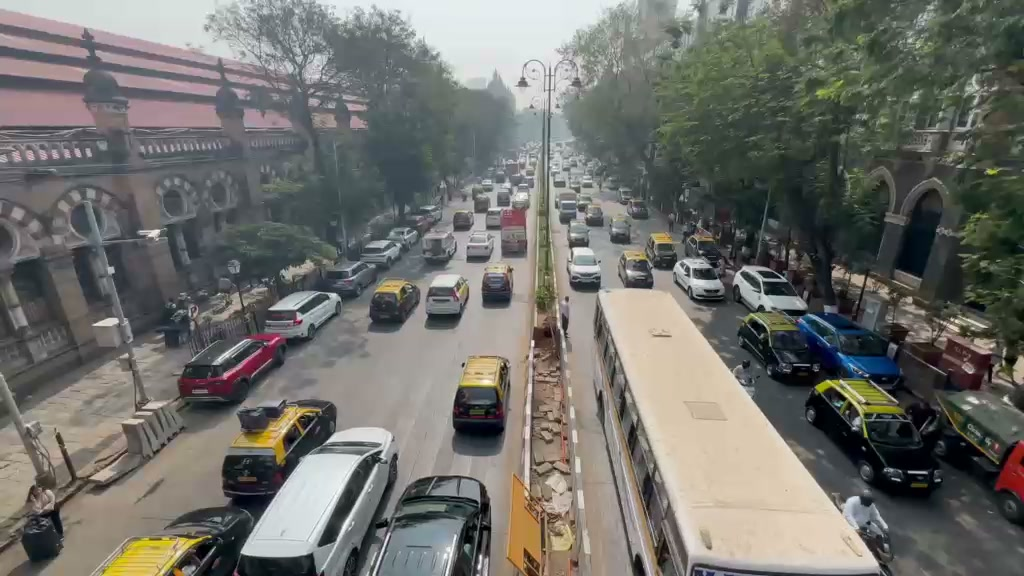bus: (592, 286, 886, 571), (500, 208, 530, 257), (557, 194, 579, 224)
car: (232, 425, 400, 575), (803, 377, 943, 493), (353, 474, 493, 575), (223, 398, 338, 502), (89, 503, 253, 575), (795, 310, 904, 387), (176, 331, 287, 403), (89, 527, 251, 575), (736, 310, 819, 384), (451, 355, 510, 435), (261, 290, 342, 341), (734, 265, 810, 315), (992, 438, 1023, 524), (672, 256, 727, 303), (317, 257, 378, 298), (368, 278, 420, 325), (425, 271, 471, 321), (566, 247, 603, 289), (617, 248, 654, 288), (421, 227, 458, 262), (481, 267, 513, 307), (465, 231, 494, 262), (586, 204, 604, 227)
truck: (802, 377, 944, 495)
